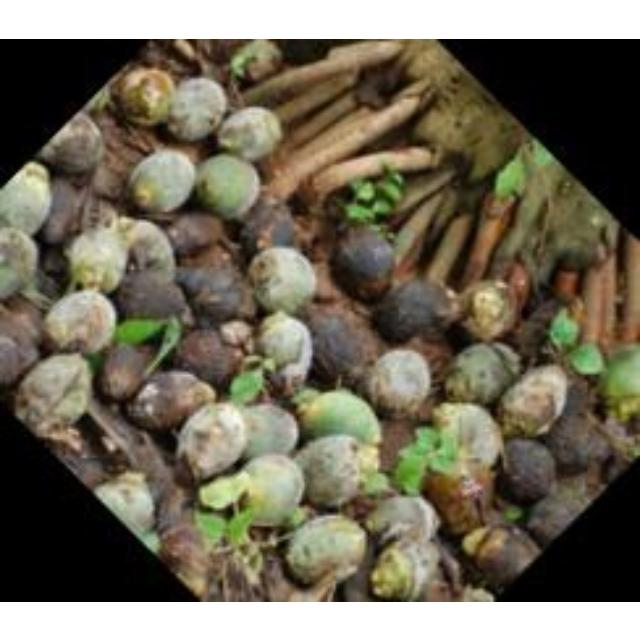damaged: (245, 48, 382, 108), (15, 352, 95, 436), (81, 390, 157, 474), (284, 512, 370, 586), (177, 402, 250, 482), (270, 76, 364, 138), (422, 458, 496, 536), (127, 369, 215, 433), (292, 434, 368, 508), (374, 277, 458, 343), (306, 308, 376, 384), (42, 288, 118, 357), (233, 454, 305, 526), (431, 400, 504, 470), (499, 364, 569, 436), (362, 346, 433, 416), (329, 226, 395, 300), (253, 310, 314, 388), (298, 388, 380, 446), (248, 246, 316, 314), (92, 472, 158, 542), (468, 523, 538, 589), (445, 342, 519, 404), (128, 148, 196, 214), (65, 224, 128, 294), (176, 264, 252, 322), (194, 152, 260, 218), (176, 327, 246, 389), (116, 264, 190, 322), (363, 490, 439, 546), (164, 76, 228, 142), (424, 204, 476, 284), (37, 113, 104, 175), (111, 64, 177, 126), (338, 166, 404, 228), (388, 168, 456, 226), (0, 163, 52, 237), (237, 402, 300, 462), (0, 304, 46, 386), (157, 524, 209, 596), (308, 40, 406, 78), (499, 436, 555, 502), (40, 174, 90, 246), (548, 409, 604, 473), (97, 341, 155, 402), (240, 195, 298, 255), (218, 106, 280, 162), (511, 296, 565, 360), (392, 41, 460, 91), (166, 210, 230, 260), (120, 218, 176, 274), (526, 490, 582, 546), (598, 346, 640, 418), (0, 228, 40, 302), (57, 444, 115, 491), (353, 144, 437, 176), (141, 314, 181, 378), (228, 38, 284, 82), (546, 470, 598, 516), (401, 332, 451, 378), (376, 416, 419, 469), (154, 481, 193, 539), (549, 236, 601, 274), (254, 552, 294, 600), (392, 447, 433, 493), (90, 154, 130, 200), (115, 117, 161, 157), (420, 426, 460, 472), (309, 257, 347, 305), (157, 134, 207, 170), (194, 40, 252, 70), (111, 316, 170, 344), (494, 151, 528, 199), (503, 260, 531, 318), (432, 540, 462, 594), (82, 196, 120, 238), (600, 245, 616, 343), (223, 502, 257, 548), (600, 436, 634, 482), (39, 245, 70, 292), (276, 40, 328, 68), (566, 341, 604, 375), (488, 342, 522, 376), (196, 512, 227, 546), (86, 82, 114, 118), (606, 332, 638, 362), (170, 39, 200, 65), (554, 268, 580, 298), (530, 140, 556, 168), (618, 318, 640, 344), (462, 586, 496, 602), (558, 178, 574, 196), (590, 212, 604, 230)
